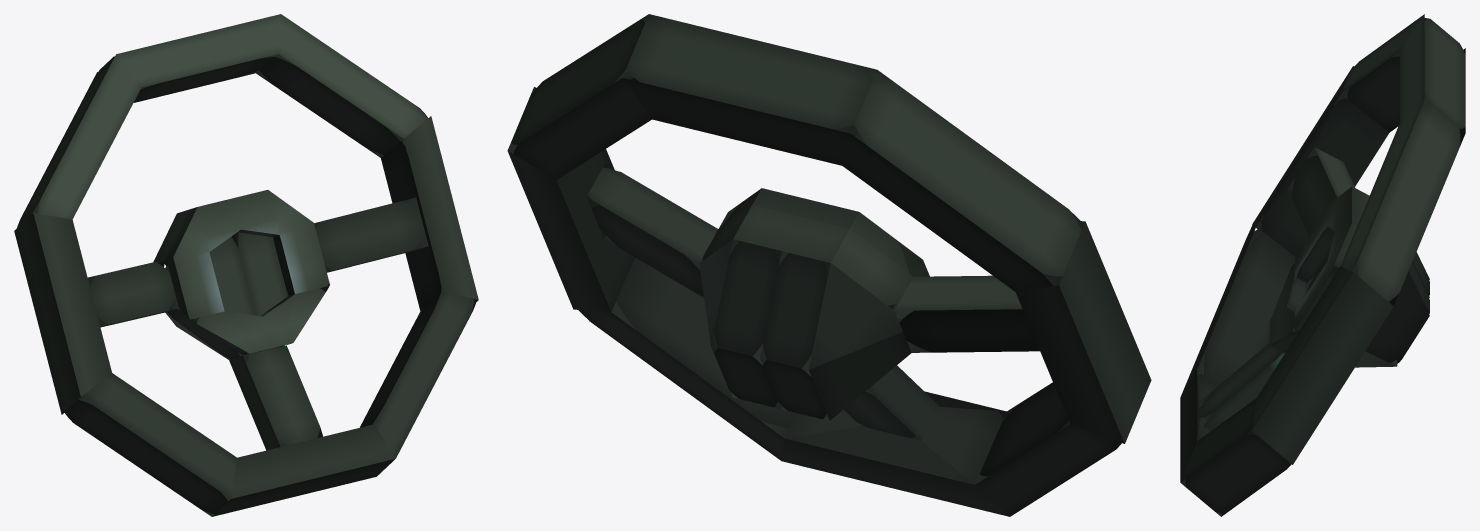
File: steering_wheel.obj
3 views of the same model, side by side, from view 1: azimuth 30°, elevation 25°; view 2: azimuth 150°, elevation 25°; view 3: azimuth 270°, elevation 25° (orthographic). The views are drawn at different scales.
Parts seen in each view (by area): view 1: steering_wheel; view 2: steering_wheel; view 3: steering_wheel.
Boxes of the visible parts, x1=… form: steering_wheel: x1=14, y1=14, x2=478, y2=516; steering_wheel: x1=507, y1=14, x2=1151, y2=516; steering_wheel: x1=1180, y1=14, x2=1465, y2=516.
Size of the model in its own units: 0.25 by 0.2358 by 0.1459.
